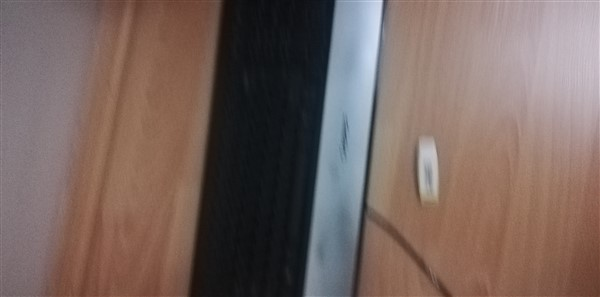flash disk: (413, 136, 448, 208)
klavye: (185, 1, 393, 297)
